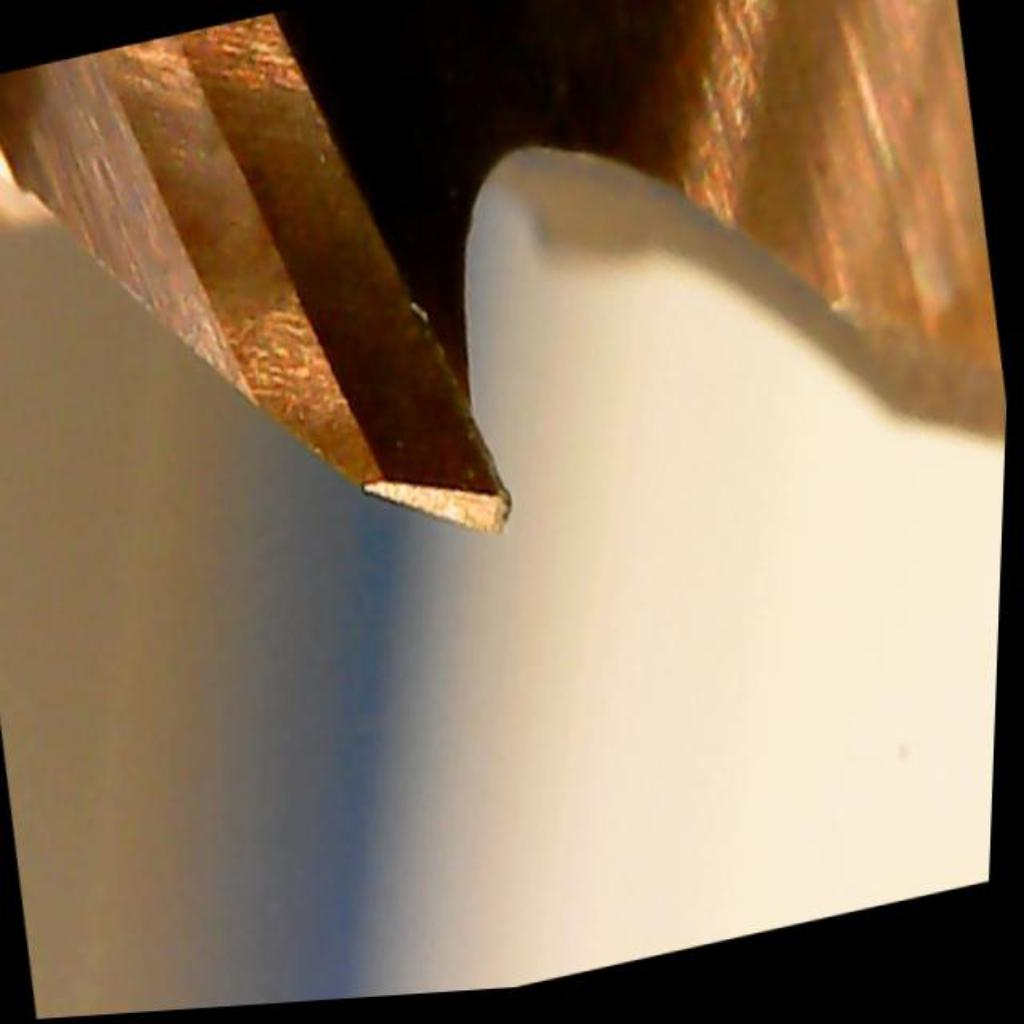Tool-wear-class-1: (238, 153, 565, 617)
